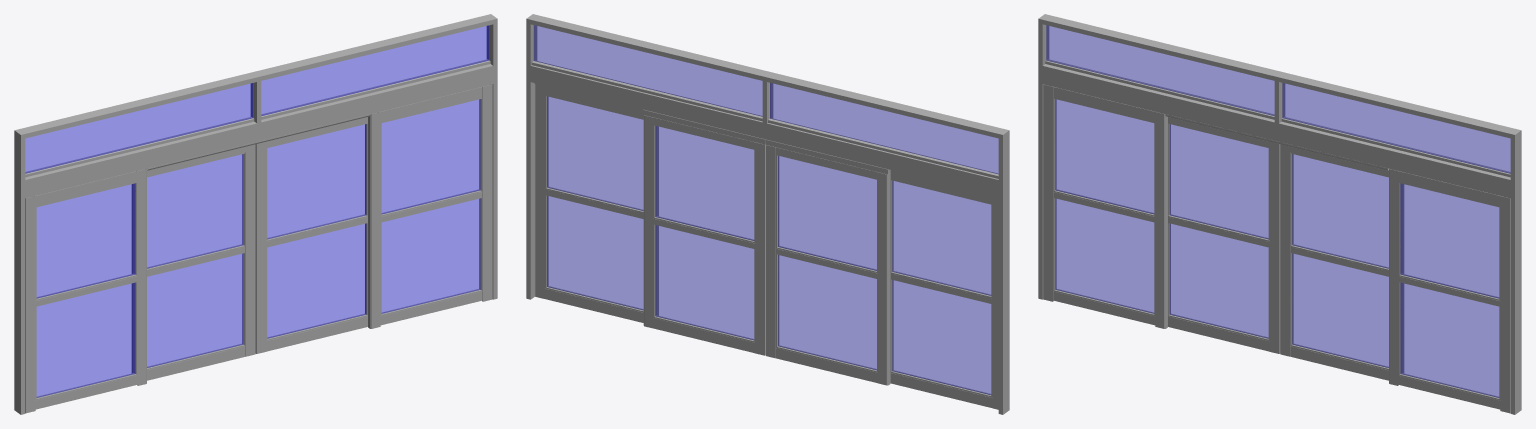
Rendered from door.v1.glb.
3 renders of one model, left to right at view 1: azimuth 30°, elevation 25°; view 2: azimuth 150°, elevation 25°; view 3: azimuth 330°, elevation 25°, orthographic.
Visible parts, largest first — view 1: Door_Static, Door_LeafR, Door_LeafL; view 2: Door_Static, Door_LeafL, Door_LeafR; view 3: Door_Static, Door_LeafL, Door_LeafR.
Boxes of the visible parts, x1,y1,x2,y2 form: Door_Static: (14,14,497,414); Door_LeafR: (255,117,367,353); Door_LeafL: (131,144,255,380); Door_Static: (526,14,1009,414); Door_LeafL: (765,139,890,385); Door_LeafR: (643,109,765,355); Door_Static: (1038,14,1521,414); Door_LeafL: (1168,117,1280,353); Door_LeafR: (1280,144,1404,380).
Bounding box in the file's own units: 4.88 × 2.74 × 0.1149.
